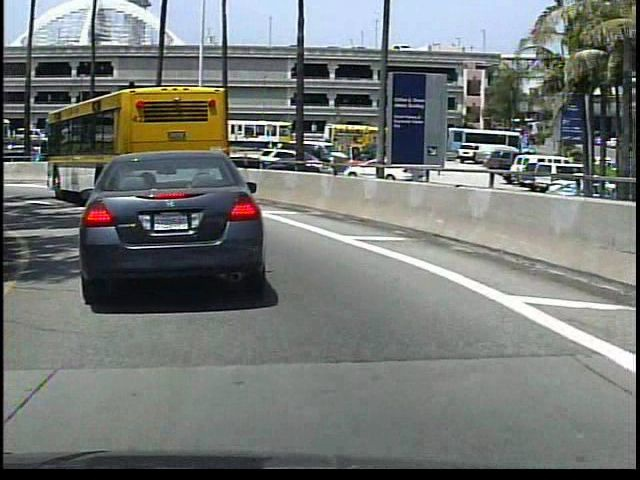person: (307, 141, 325, 178)
